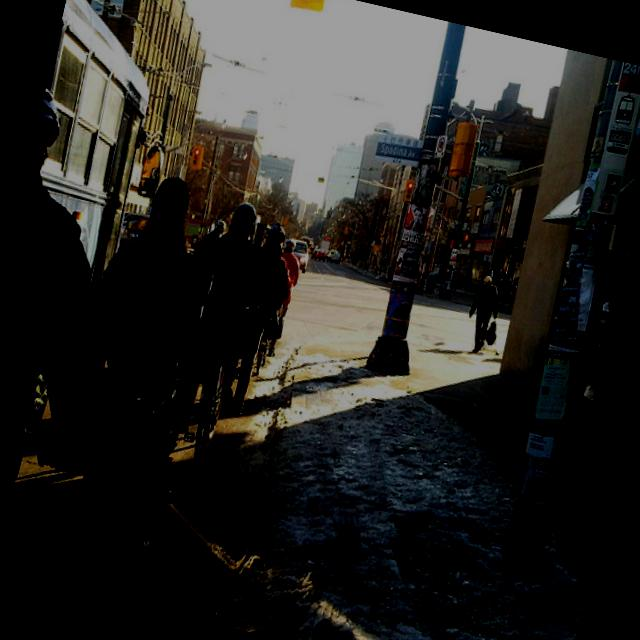Vehicle: (0, 0, 185, 310), (282, 236, 312, 274), (326, 252, 340, 264), (326, 248, 340, 260), (314, 251, 326, 262)
